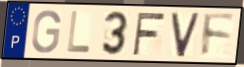3: (101, 10, 129, 57)
F: (201, 11, 237, 59), (131, 11, 167, 57)
G: (30, 9, 62, 55)
L: (65, 9, 92, 54)
V: (170, 11, 202, 59)
